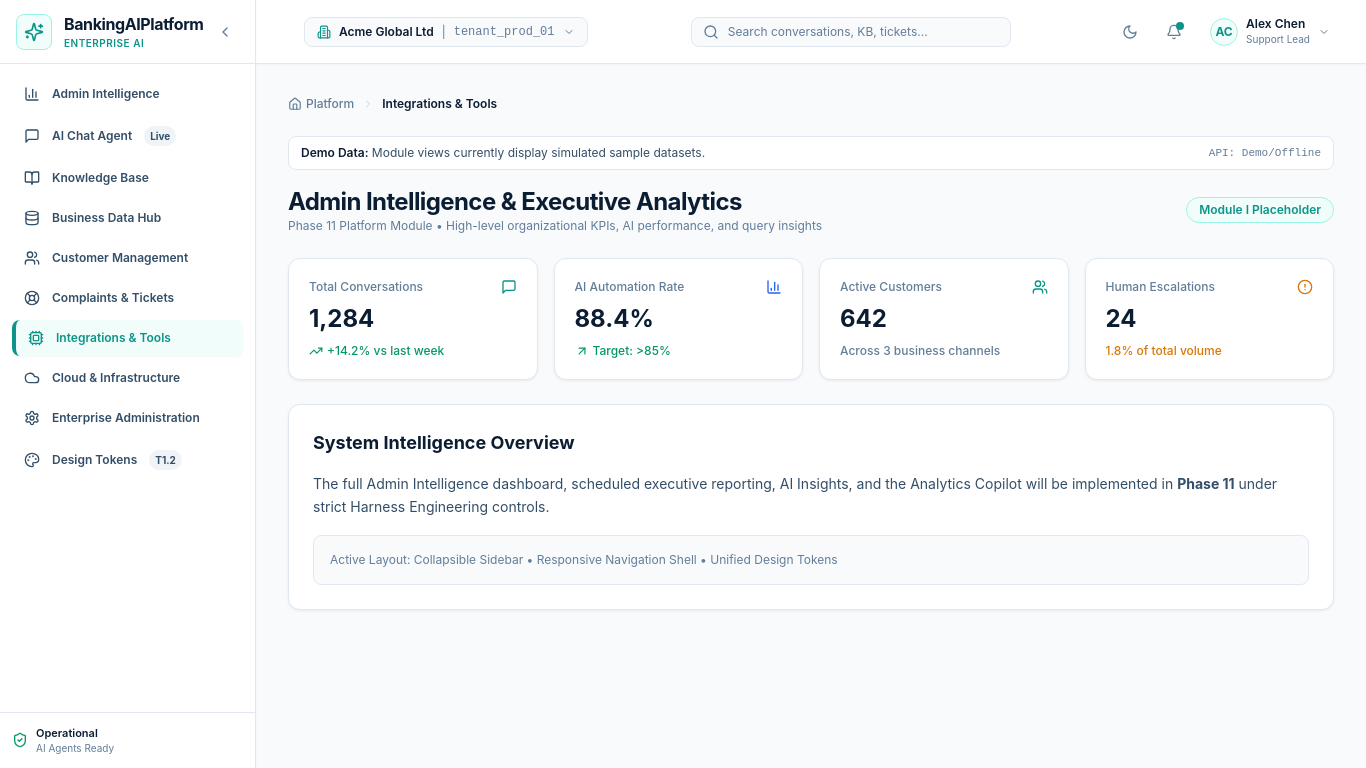
Test: BankingAIPlatform AppShell, Navigation & Module Views Verification (Task 1.4 & 1.5) › navigates to Enterprise Admin and verifies branding inputs
Click the link "Enterprise Administration" at coordinates (112, 418), box 24,410 -> 200,426
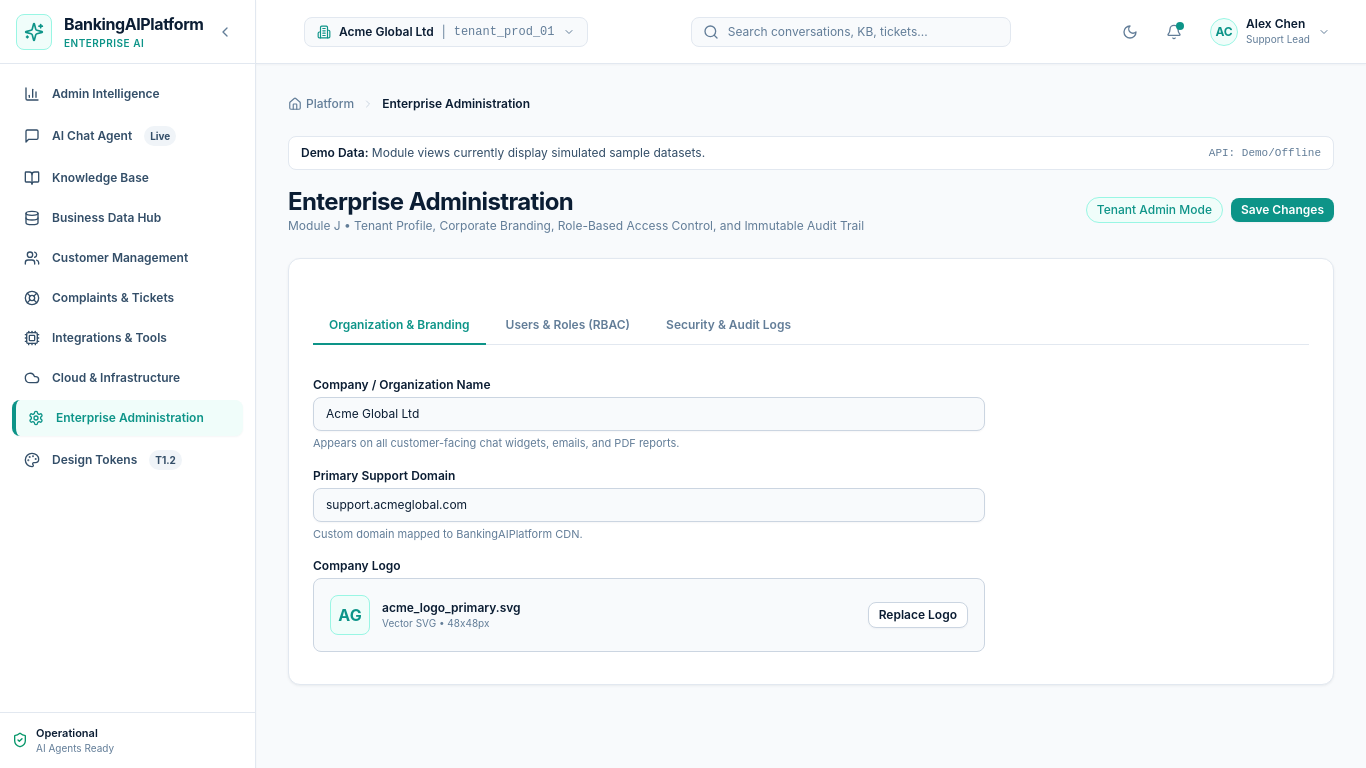
Result: the heading "Enterprise Administration" is shown at 288,187 -> 573,216
Result: the field labelled "Company / Organization Name" holds "Acme Global Ltd" at 313,397 -> 985,431
